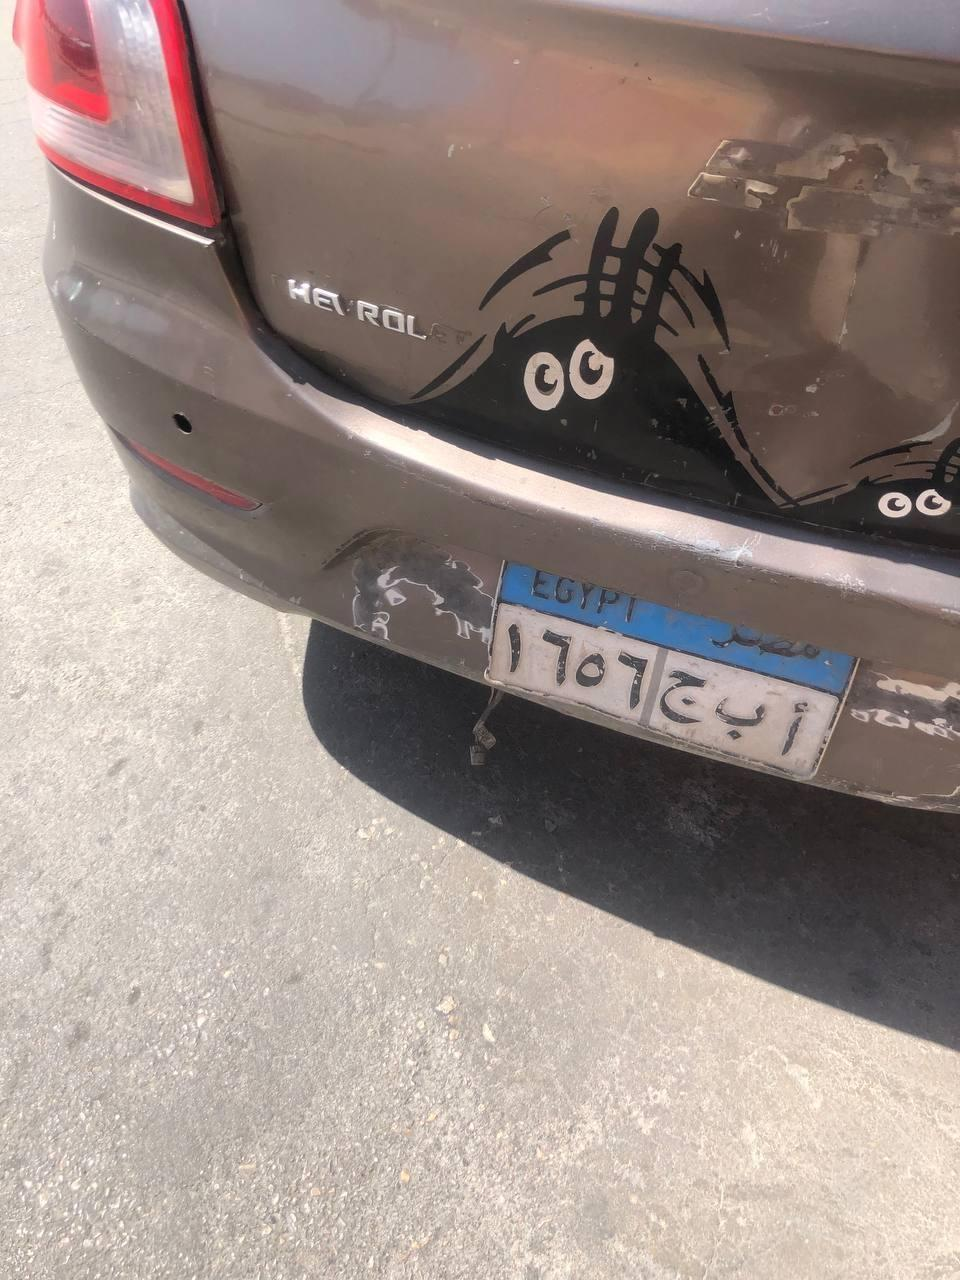1: (500, 618, 522, 676)
5: (570, 644, 606, 692)
6: (532, 618, 575, 702), (612, 643, 652, 716)
License Plate: (481, 560, 858, 795)
alef: (771, 695, 813, 765)
baa: (708, 690, 765, 749)
geem: (658, 660, 709, 739)
